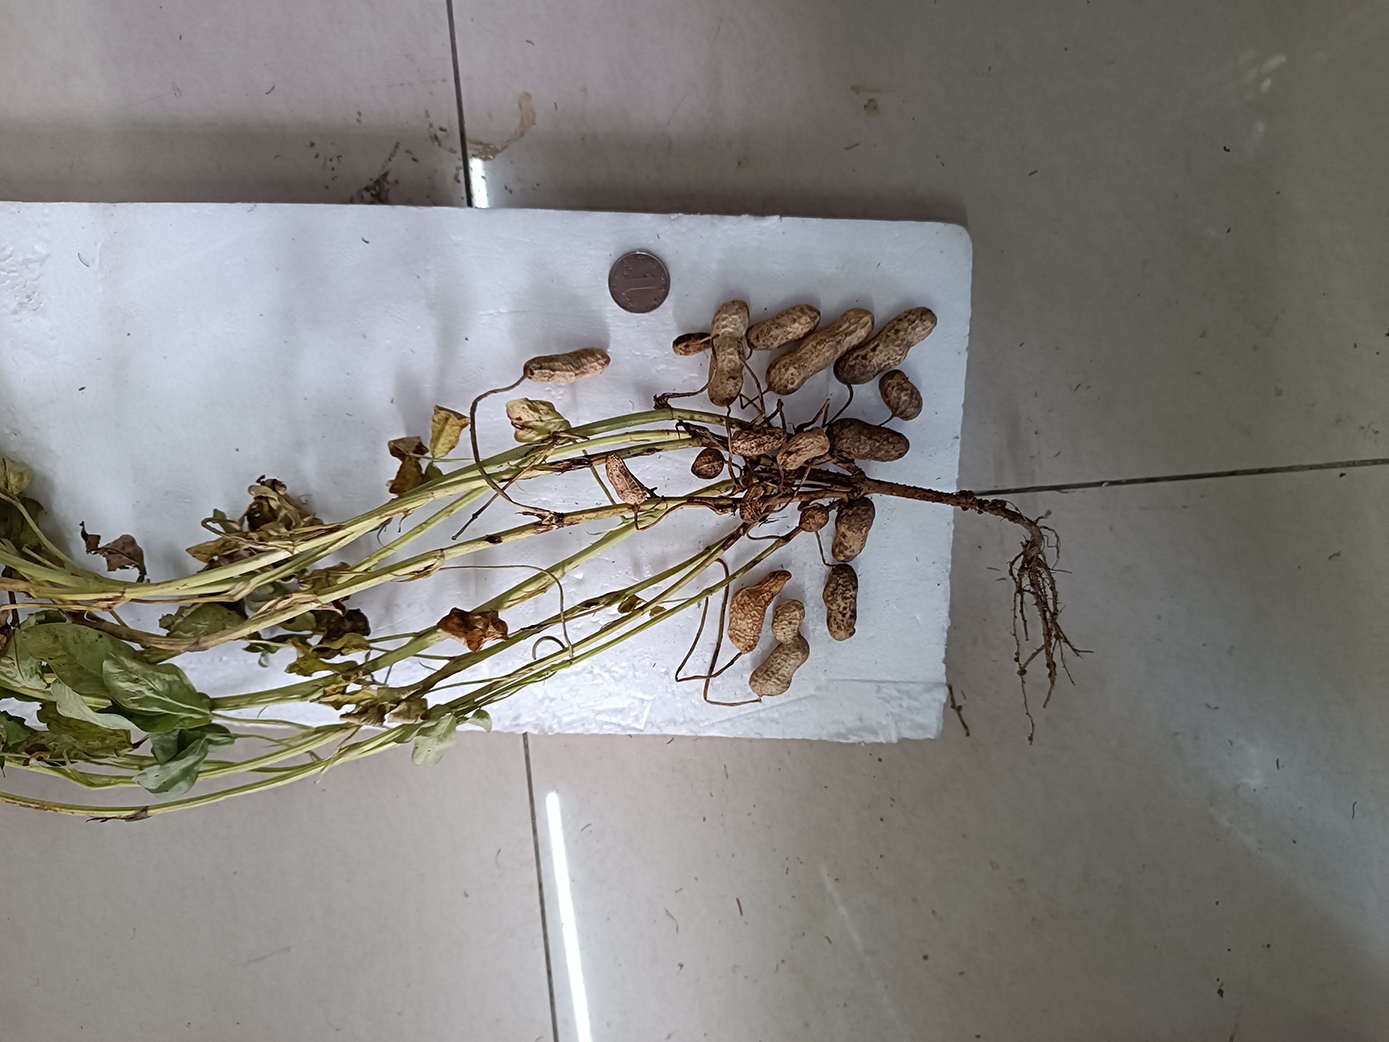h: (767, 308, 873, 396), (835, 306, 936, 384), (749, 599, 811, 697), (727, 569, 791, 653), (706, 301, 750, 405), (746, 304, 821, 350), (832, 495, 877, 564), (525, 349, 612, 382), (777, 427, 829, 472), (606, 452, 648, 507), (730, 428, 786, 458), (672, 334, 717, 355), (799, 503, 829, 533)
l: (827, 419, 908, 463), (823, 564, 859, 640), (879, 370, 923, 420), (688, 448, 724, 481)
